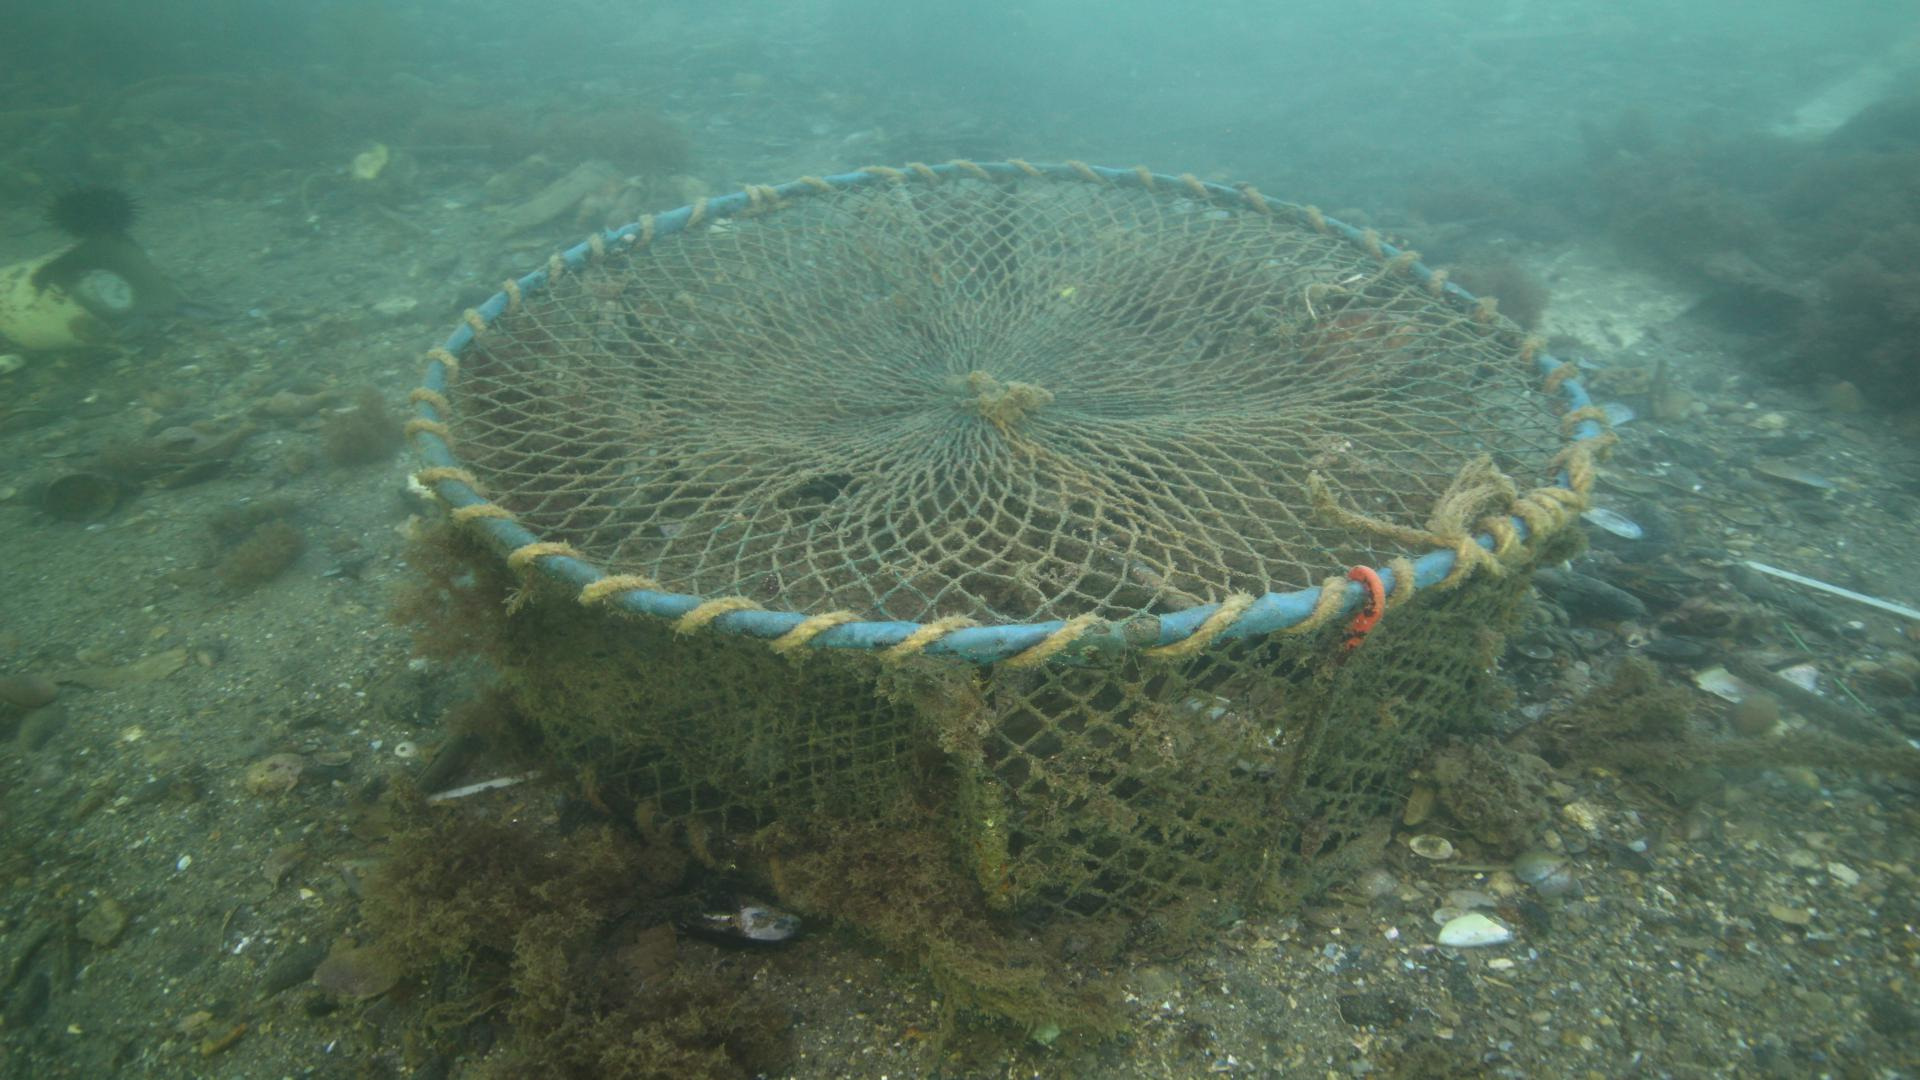circular fish trap: (401, 156, 1606, 965)
